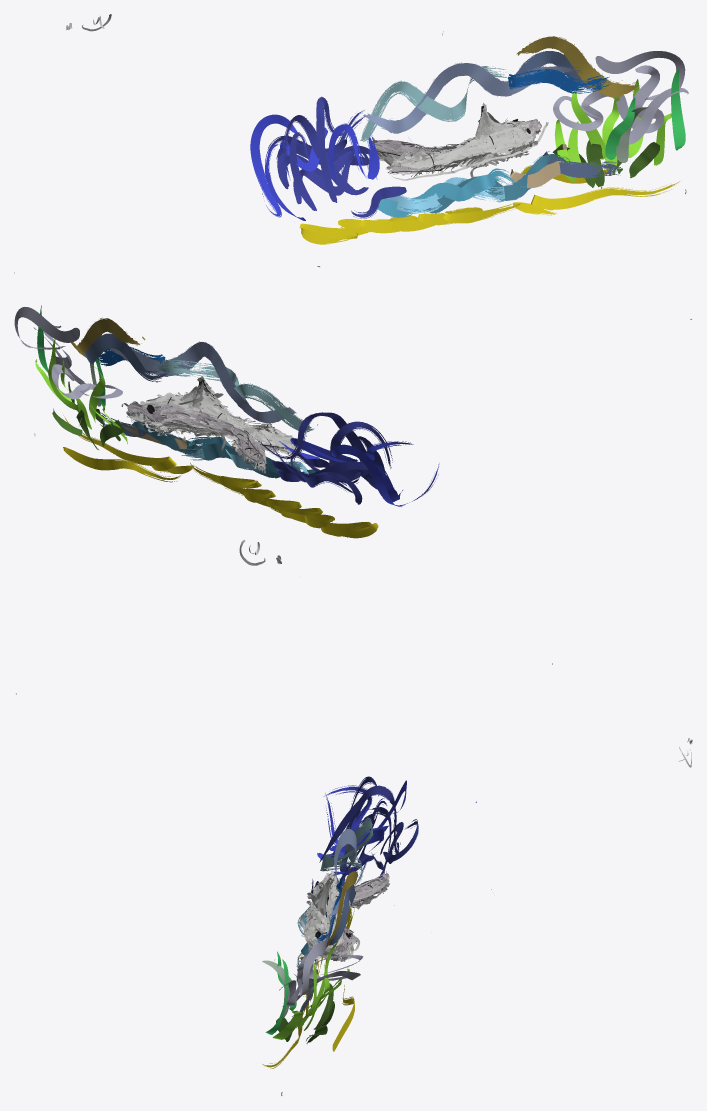
3 renders of one model, top to bottom at view 1: azimuth 30°, elevation 25°; view 2: azimuth 150°, elevation 25°; view 3: azimuth 270°, elevation 25°, orthographic. The views are drawn at different scales.
Parts seen in each view (by area): view 1: brush_OilPaint_g0_b0_0, brush_Ink_g0_b0_9, brush_TaperedFlat_g0_b0_10, brush_DoubleTaperedMarker_g0_b0_4, brush_Marker_g0_b1_6; view 2: brush_Ink_g0_b0_9, brush_OilPaint_g0_b0_0, brush_DoubleTaperedMarker_g0_b0_4, brush_TaperedFlat_g0_b0_10, brush_Marker_g0_b0_5, brush_Marker_g0_b2_7, brush_Marker_g0_b1_6; view 3: brush_Ink_g0_b0_9, brush_TaperedFlat_g0_b0_10, brush_OilPaint_g0_b0_0, brush_DoubleTaperedMarker_g0_b0_4.
Boxes of the visible parts, x1,y1,x2,y2 form: brush_OilPaint_g0_b0_0: (14, 36, 686, 273); brush_Ink_g0_b0_9: (250, 96, 679, 244); brush_TaperedFlat_g0_b0_10: (553, 51, 688, 182); brush_DoubleTaperedMarker_g0_b0_4: (66, 14, 659, 188); brush_Marker_g0_b1_6: (372, 31, 453, 172); brush_Ink_g0_b0_9: (63, 412, 439, 538); brush_OilPaint_g0_b0_0: (34, 317, 691, 664); brush_DoubleTaperedMarker_g0_b0_4: (52, 376, 317, 565); brush_TaperedFlat_g0_b0_10: (14, 305, 127, 443); brush_Marker_g0_b0_5: (127, 399, 282, 464); brush_Marker_g0_b2_7: (128, 398, 261, 456); brush_Marker_g0_b1_6: (78, 418, 266, 467); brush_Ink_g0_b0_9: (262, 776, 418, 1068); brush_TaperedFlat_g0_b0_10: (262, 919, 363, 1039); brush_OilPaint_g0_b0_0: (16, 693, 476, 1095); brush_DoubleTaperedMarker_g0_b0_4: (276, 738, 692, 1043).
Bounding box in the file's own units: 5.24 × 1.42 × 4.93.
Materials: 7 (5 with a texture image).
